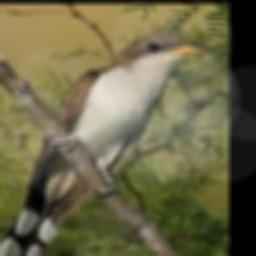Cuckoo: (0, 33, 207, 256)
